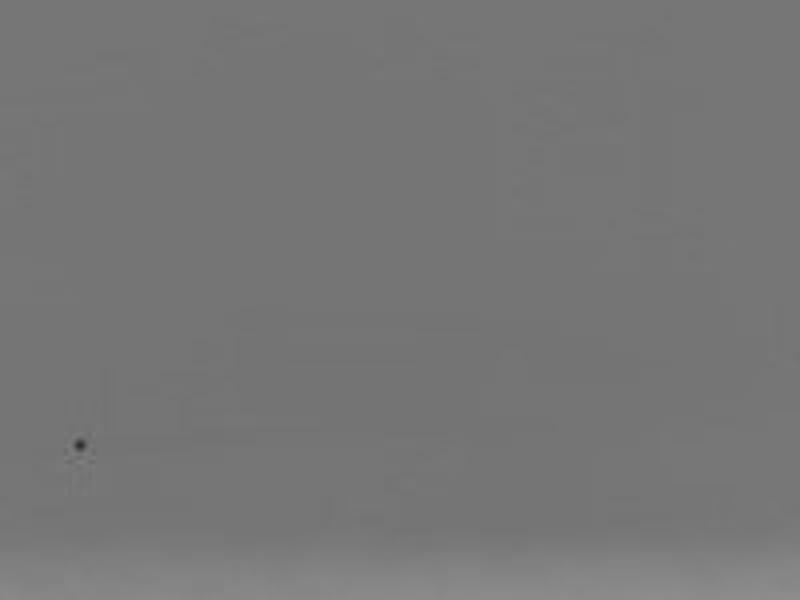defect: (70, 437, 90, 456)
